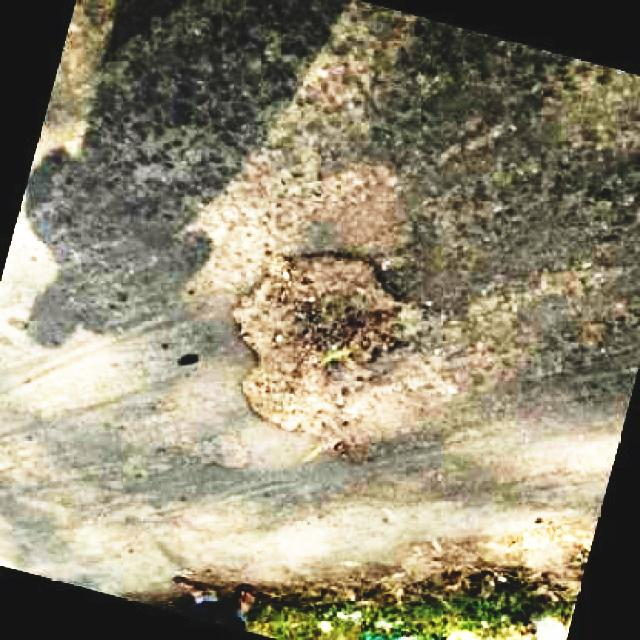pothole: (240, 251, 403, 438)
